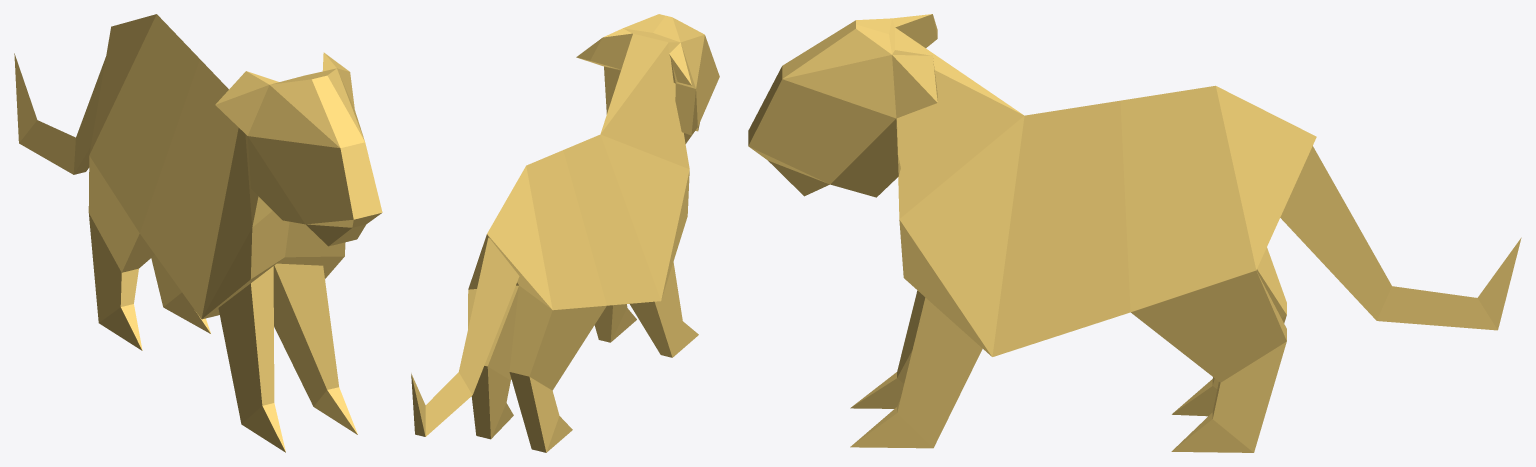
File: tiger.glb
3 renders of one model, left to right at view 1: azimuth 30°, elevation 25°; view 2: azimuth 150°, elevation 25°; view 3: azimuth 270°, elevation 25°, orthographic. The views are drawn at different scales.
Visible parts, largest first — view 1: Tiger; view 2: Tiger; view 3: Tiger.
Part boxes in pixels (left/top/right/bottom): Tiger: left=14, top=14, right=382, bottom=452; Tiger: left=411, top=14, right=719, bottom=452; Tiger: left=748, top=14, right=1521, bottom=452.
Size of the model in its own units: 0.5382 by 1.41 by 2.41.
